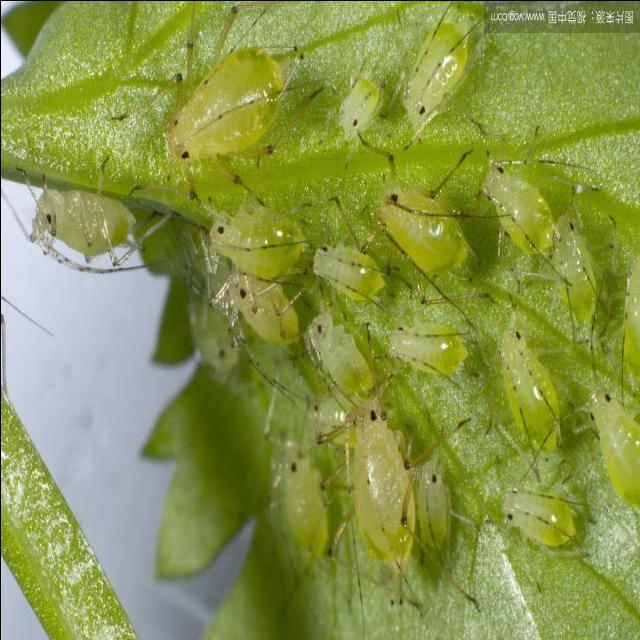aphid: (149, 13, 302, 192), (8, 153, 169, 284), (342, 150, 482, 288), (328, 383, 424, 582), (216, 258, 313, 407), (491, 308, 575, 478), (459, 147, 567, 275), (387, 7, 482, 132), (300, 292, 384, 418), (490, 472, 598, 564), (198, 198, 316, 282), (384, 301, 478, 394), (548, 206, 607, 350), (414, 438, 464, 574), (308, 230, 396, 306), (326, 58, 391, 146)
